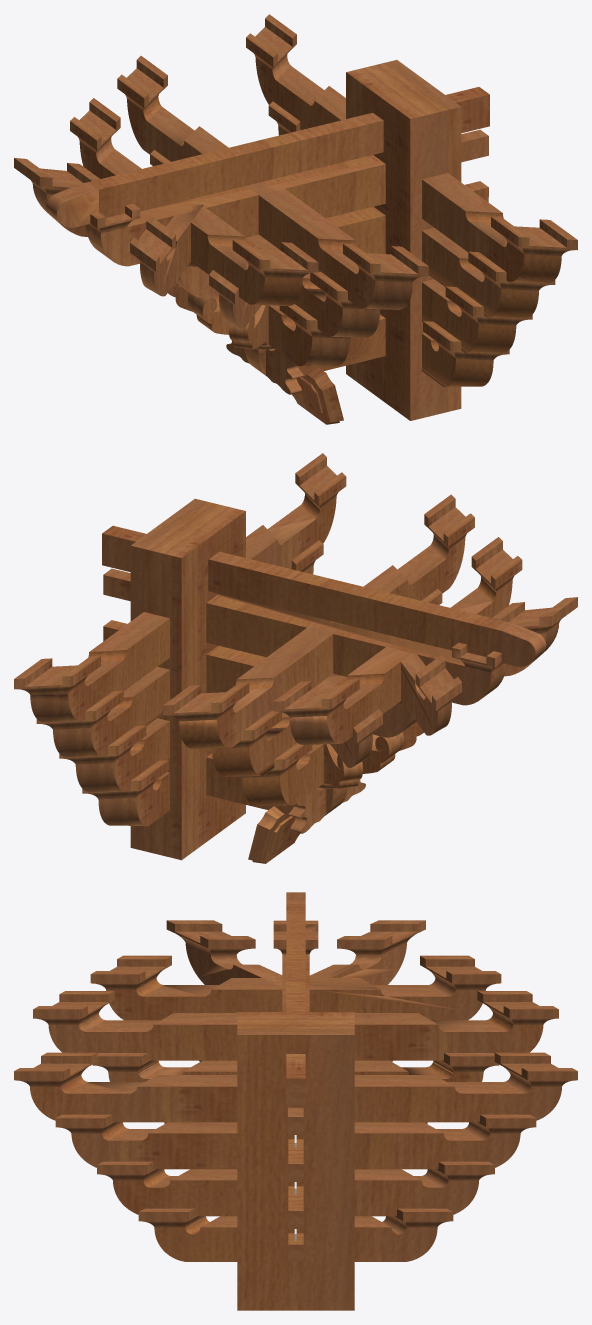
The picture shows the model from 3 angles, top to bottom: view 1: azimuth 30°, elevation 25°; view 2: azimuth 150°, elevation 25°; view 3: azimuth 270°, elevation 25°; orthographic projection. The views are drawn at different scales.
Parts seen in each view (by area): view 1: samor_4136_6099, samor_4136_6101, samor_4136_6076, samor_4136_6064, samor_4136_6054, samor_4136_6085, samor_4136_6066, samor_4136_6067, samor_4136_6093, samor_4136_6077, samor_4136_6078, samor_4136_6068 (+24 smaller); view 2: samor_4136_6099, samor_4136_6101, samor_4136_6076, samor_4136_6054, samor_4136_6064, samor_4136_6085, samor_4136_6066, samor_4136_6067, samor_4136_6093, samor_4136_6078, samor_4136_6077, samor_4136_6068 (+24 smaller); view 3: samor_4136_6099, samor_4136_6064, samor_4136_6076, samor_4136_6066, samor_4136_6085, samor_4136_6067, samor_4136_6068, samor_4136_6101, samor_4136_6077, samor_4136_6057, samor_4136_6070, samor_4136_6075 (+19 smaller).
Boxes of the visible parts, left/top/right/bottom form: samor_4136_6099: left=346, top=60, right=461, bottom=420; samor_4136_6101: left=88, top=87, right=489, bottom=217; samor_4136_6076: left=127, top=96, right=412, bottom=309; samor_4136_6064: left=255, top=55, right=561, bottom=283; samor_4136_6054: left=86, top=129, right=488, bottom=266; samor_4136_6085: left=79, top=139, right=302, bottom=305; samor_4136_6066: left=278, top=126, right=538, bottom=318; samor_4136_6067: left=422, top=279, right=516, bottom=353; samor_4136_6093: left=175, top=181, right=488, bottom=298; samor_4136_6077: left=247, top=234, right=379, bottom=337; samor_4136_6078: left=268, top=305, right=349, bottom=366; samor_4136_6068: left=422, top=333, right=493, bottom=387; samor_4136_6099: left=130, top=498, right=245, bottom=860; samor_4136_6101: left=102, top=525, right=503, bottom=656; samor_4136_6076: left=179, top=535, right=465, bottom=748; samor_4136_6054: left=103, top=568, right=506, bottom=705; samor_4136_6064: left=30, top=494, right=336, bottom=722; samor_4136_6085: left=289, top=577, right=512, bottom=745; samor_4136_6066: left=53, top=564, right=313, bottom=757; samor_4136_6067: left=75, top=718, right=169, bottom=792; samor_4136_6093: left=103, top=620, right=415, bottom=737; samor_4136_6078: left=242, top=744, right=323, bottom=805; samor_4136_6077: left=212, top=676, right=344, bottom=776; samor_4136_6068: left=98, top=772, right=169, bottom=826; samor_4136_6099: left=237, top=1012, right=354, bottom=1310; samor_4136_6064: left=30, top=1075, right=561, bottom=1122; samor_4136_6076: left=48, top=1013, right=543, bottom=1060; samor_4136_6066: left=71, top=1122, right=520, bottom=1169; samor_4136_6085: left=106, top=978, right=485, bottom=1020; samor_4136_6067: left=113, top=1169, right=478, bottom=1216; samor_4136_6068: left=154, top=1216, right=437, bottom=1261; samor_4136_6101: left=286, top=904, right=305, bottom=1107; samor_4136_6077: left=108, top=1060, right=483, bottom=1081; samor_4136_6057: left=185, top=943, right=286, bottom=988; samor_4136_6070: left=494, top=1052, right=577, bottom=1086; samor_4136_6075: left=14, top=1052, right=97, bottom=1086.
Bounding box in the file's own units: 39.89 × 26.61 × 49.24.
Materials: 2 (1 with a texture image).
